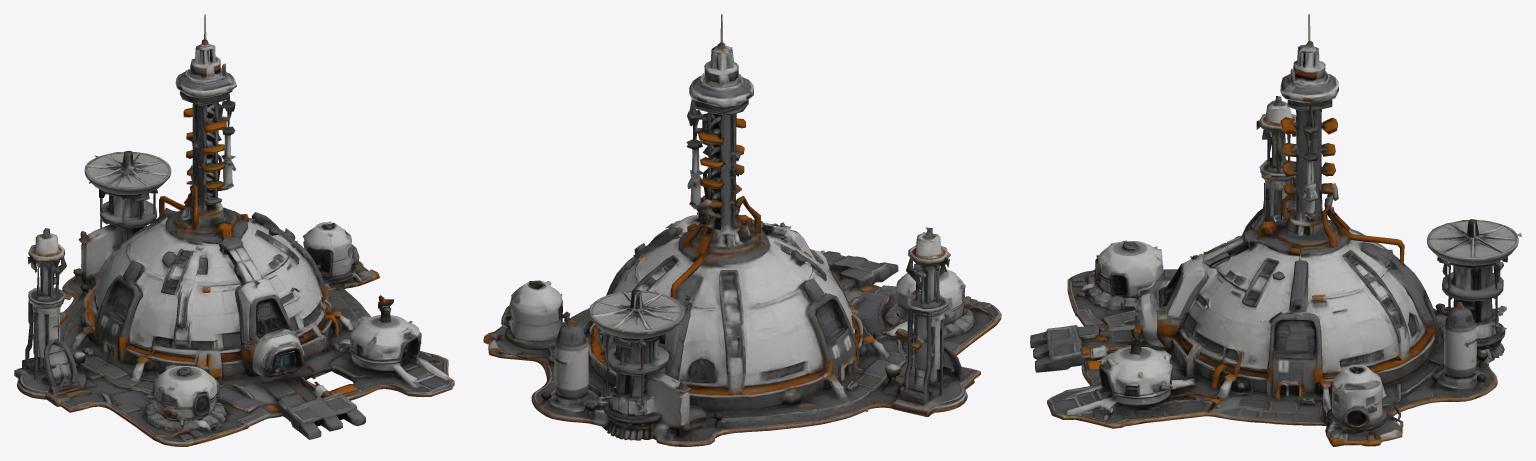
3 views of the same model, side by side, from view 1: azimuth 30°, elevation 25°; view 2: azimuth 150°, elevation 25°; view 3: azimuth 270°, elevation 25° (orthographic). The views are drawn at different scales.
Parts seen in each view (by area): view 1: tripo_node_71c73116-8506-4a18-8345-cd9a2e7cb398; view 2: tripo_node_71c73116-8506-4a18-8345-cd9a2e7cb398; view 3: tripo_node_71c73116-8506-4a18-8345-cd9a2e7cb398.
Part boxes in pixels (bbox=[...]): tripo_node_71c73116-8506-4a18-8345-cd9a2e7cb398: bbox=[14, 14, 454, 446]; tripo_node_71c73116-8506-4a18-8345-cd9a2e7cb398: bbox=[483, 14, 1001, 446]; tripo_node_71c73116-8506-4a18-8345-cd9a2e7cb398: bbox=[1030, 14, 1521, 446].
Size of the model in its own units: 0.9626 by 0.7684 by 1.
1 material, 1 textured.
